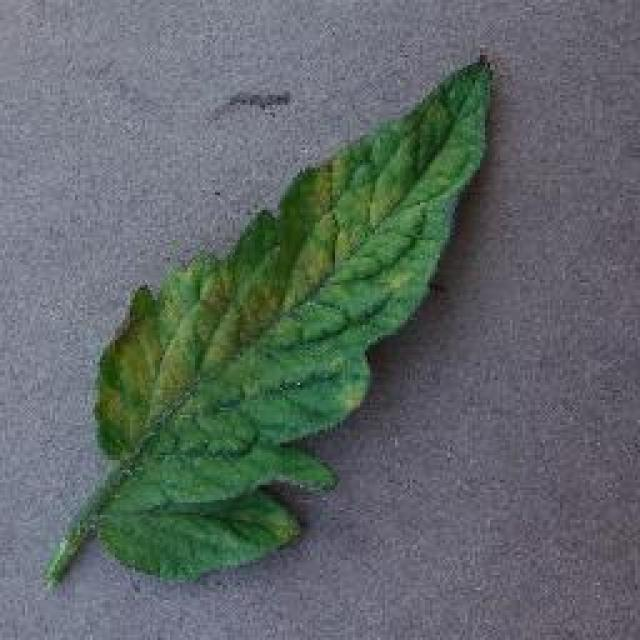Tomato mold leaf: (82, 51, 492, 589)
